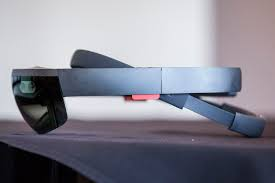hololens: (10, 43, 267, 138)
